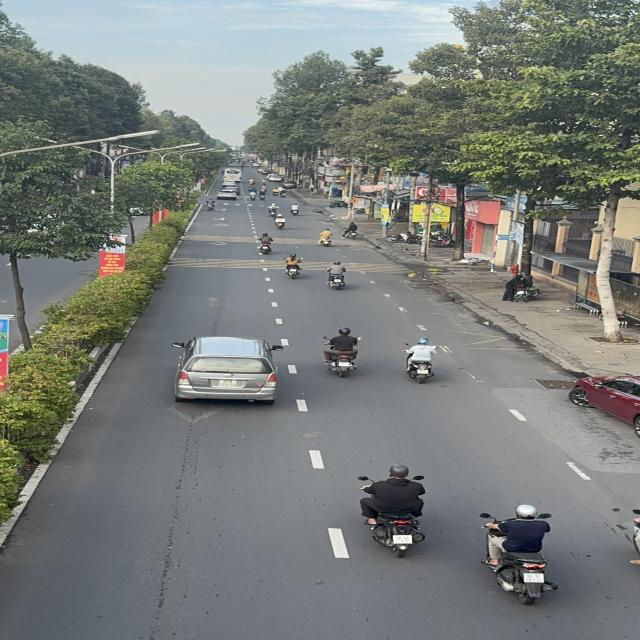car: (166, 332, 288, 408), (561, 367, 640, 437), (219, 165, 245, 186), (216, 188, 241, 200)
motobyte: (476, 503, 571, 610), (351, 461, 436, 561), (394, 333, 450, 387), (317, 326, 372, 379), (319, 259, 355, 293), (252, 227, 282, 259), (280, 251, 308, 281), (311, 225, 338, 249), (342, 216, 364, 242), (202, 194, 224, 213), (261, 200, 283, 219), (271, 212, 291, 230), (287, 200, 305, 217)
